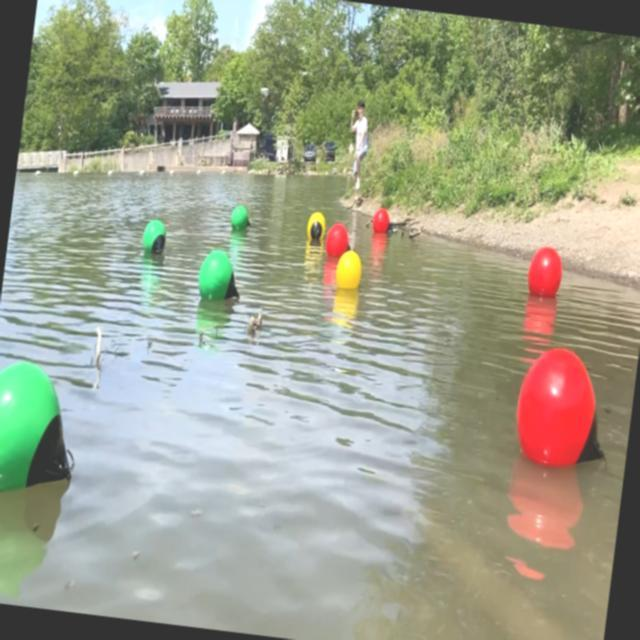buoy: (512, 340, 618, 474), (194, 246, 244, 307), (526, 242, 564, 298), (334, 250, 363, 292), (140, 217, 168, 256), (325, 222, 353, 260), (306, 210, 327, 242), (370, 206, 394, 234), (230, 204, 252, 234)
